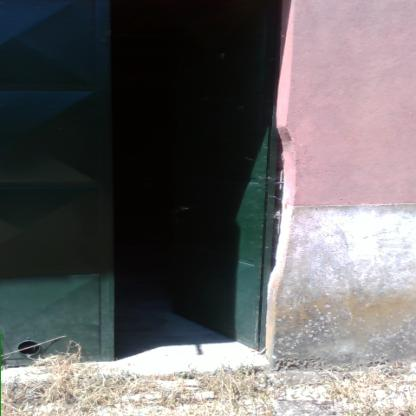open: (0, 5, 296, 372)
